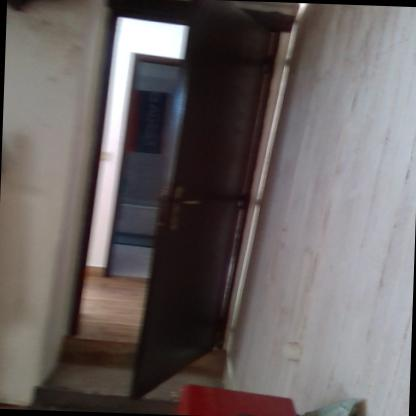semi: (52, 0, 314, 408)
